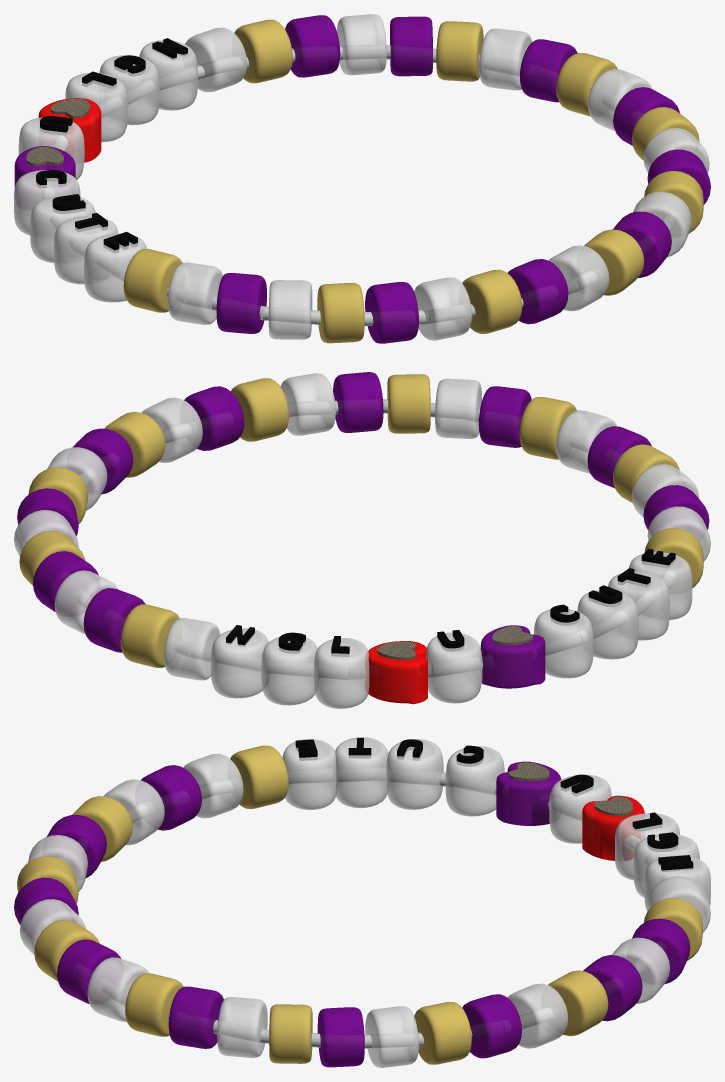
The model's file is bracelet013.gltf.
3 renders of one model, top to bottom at view 1: azimuth 30°, elevation 25°; view 2: azimuth 150°, elevation 25°; view 3: azimuth 270°, elevation 25°, orthographic.
Parts seen in each view (by area): view 1: root; view 2: root; view 3: root.
Part boxes in pixels (<box>): root: <box>14,14,710,343</box>; root: <box>14,372,710,708</box>; root: <box>14,737,710,1067</box>.
Bounding box in the file's own units: 4.92 × 0.4261 × 4.91.
7 materials, 2 textured.
